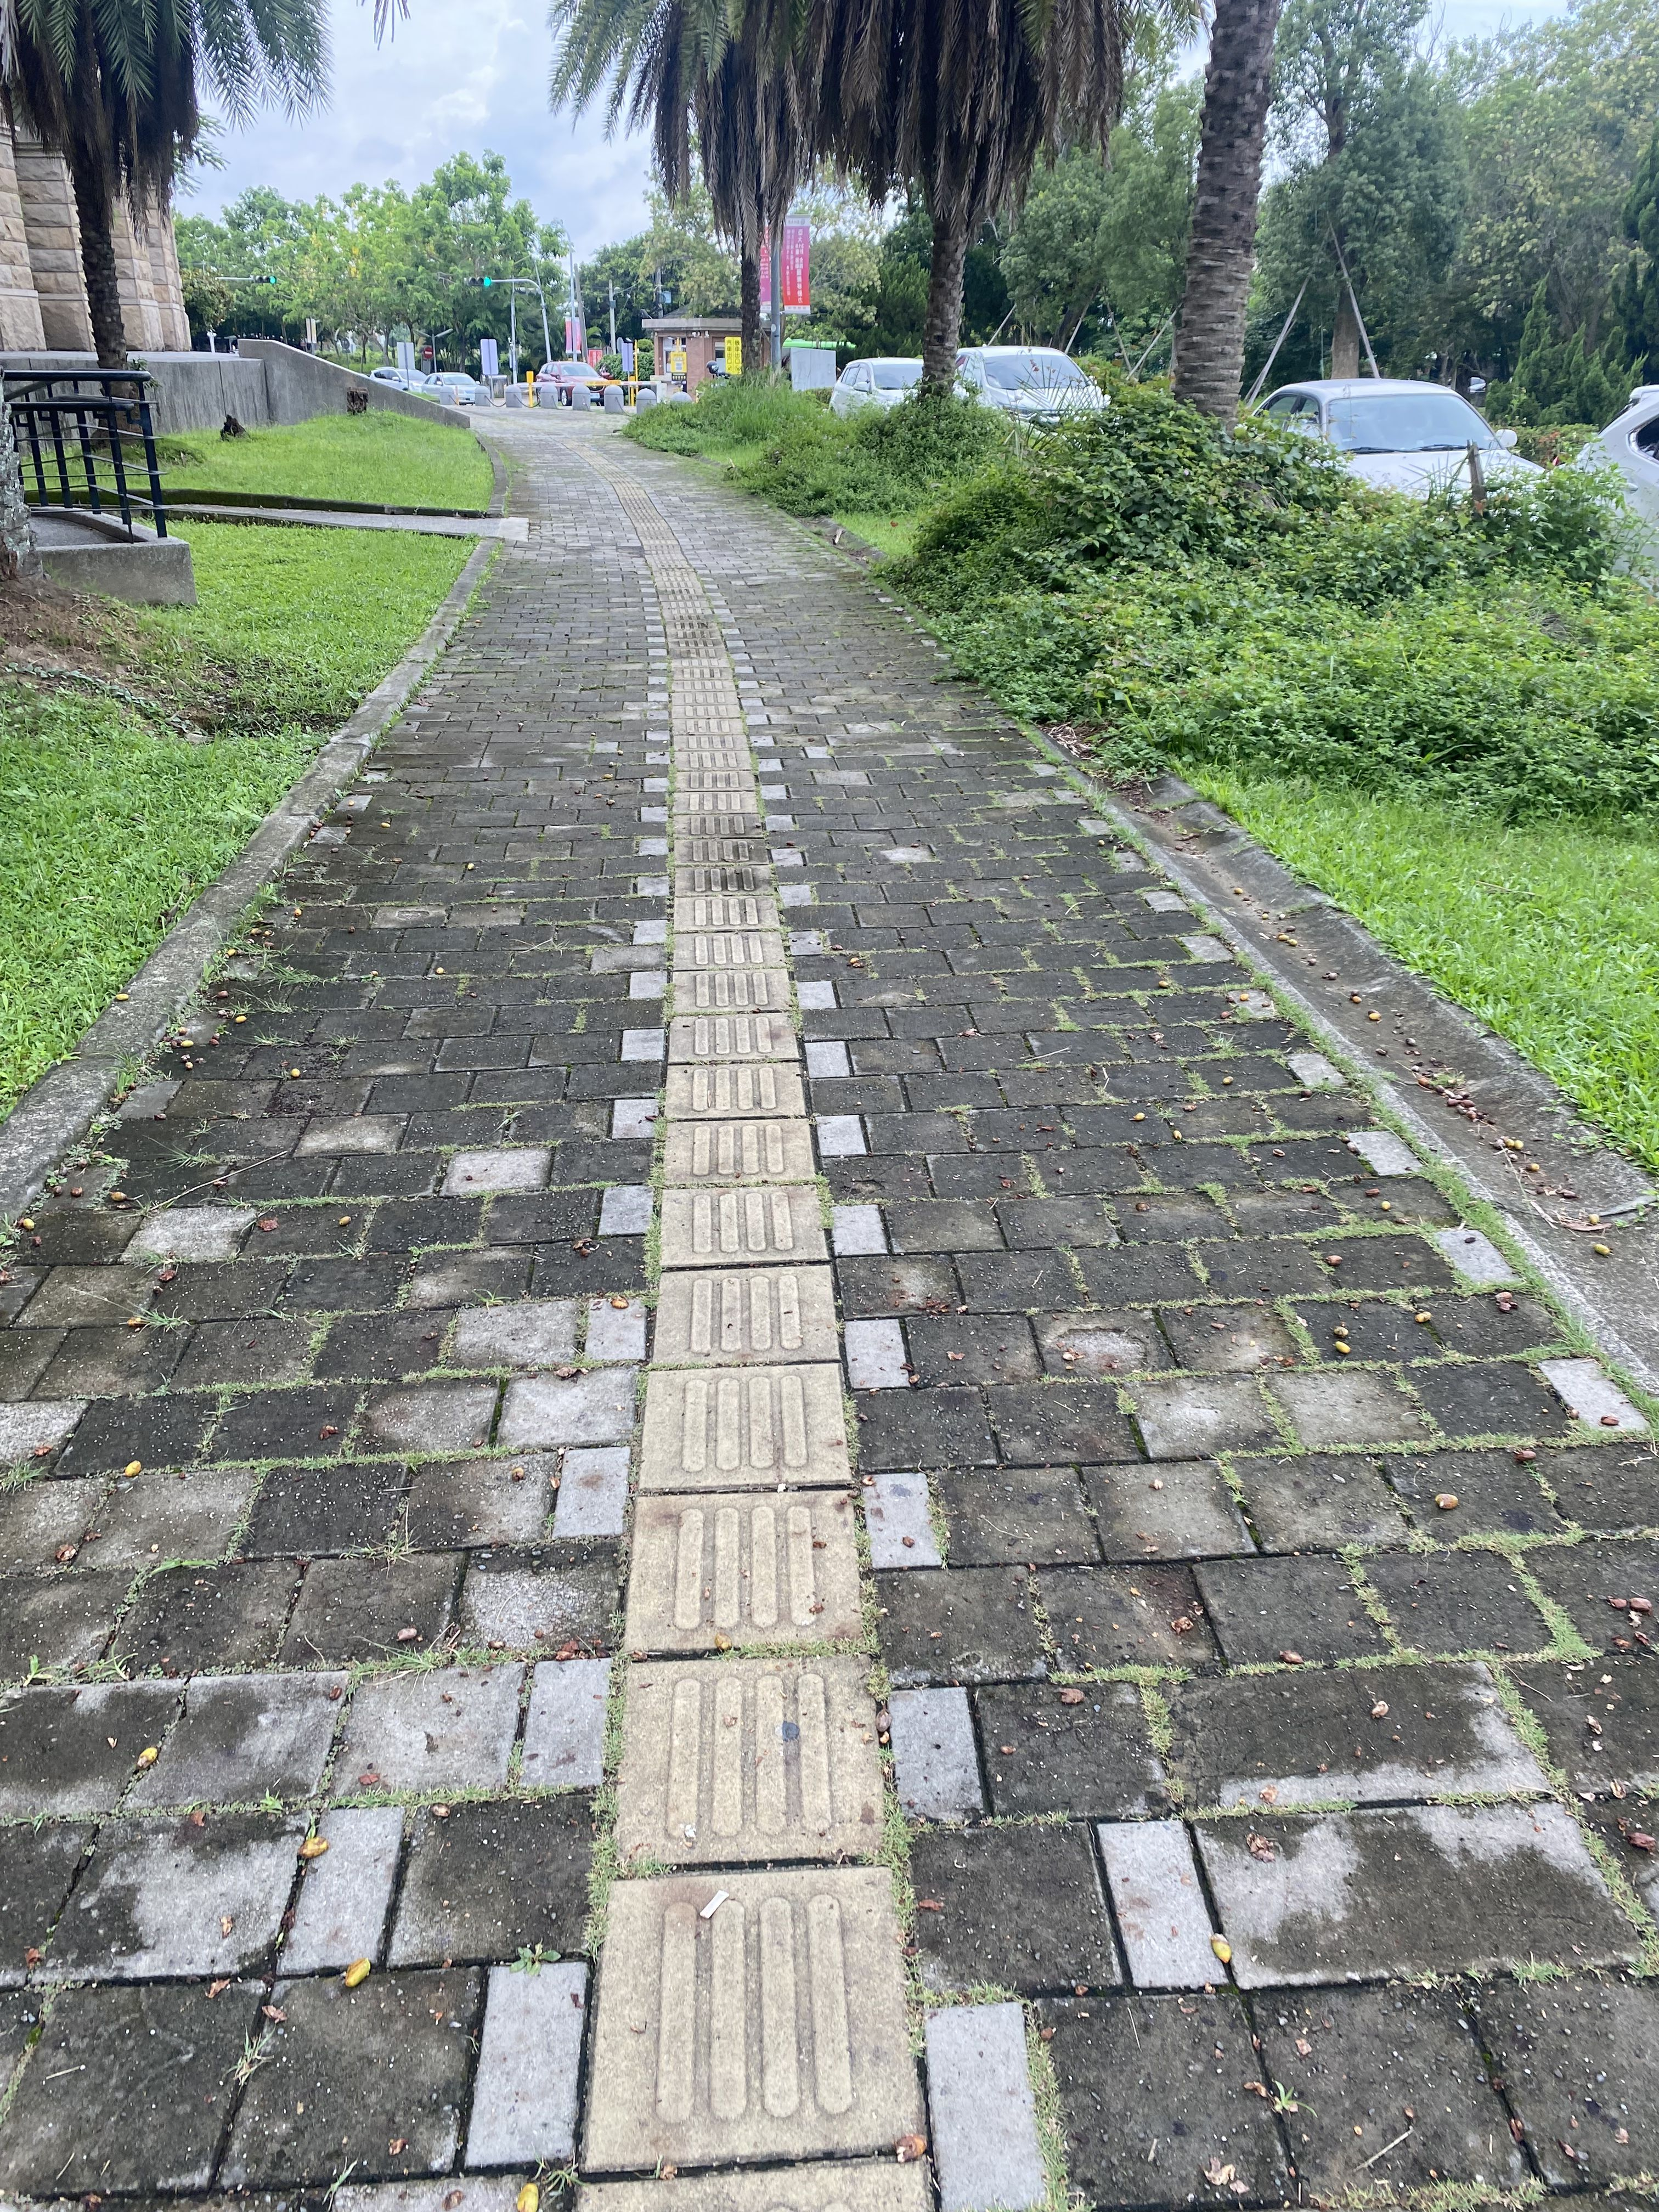0: (0, 636, 1659, 2203)
sidewalk: (439, 378, 1051, 1425)
